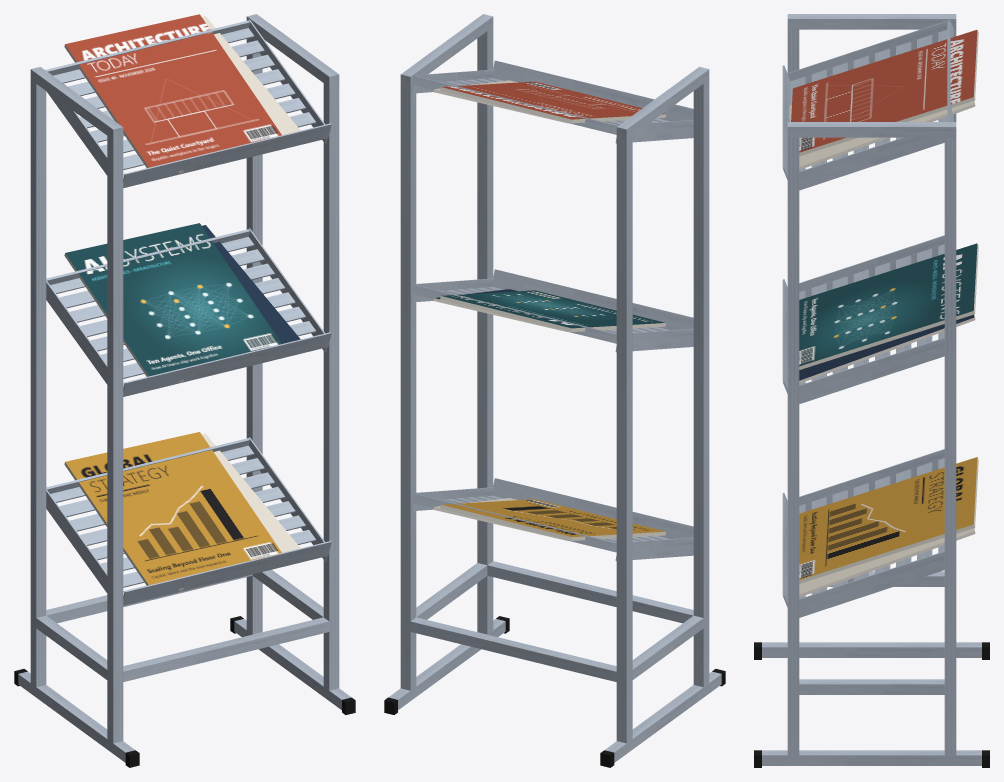
Rendered from Office_Lounge_Magazine_Rack.glb.
The picture shows the model from 3 angles, left to right: view 1: azimuth 30°, elevation 25°; view 2: azimuth 150°, elevation 25°; view 3: azimuth 270°, elevation 25°; orthographic projection. The views are drawn at different scales.
Parts seen in each view (by area): view 1: Magazine_ARCHITECTURE_TODAY, Magazine_GLOBAL_STRATEGY, Magazine_AI_SYSTEMS, Upright_L_F, Upright_L_B, Upright_R_F, Tray_1, Tray_2, Upright_R_B, Tray_3, Stretcher_Front_Low, Tray_1_Lip (+21 smaller); view 2: Upright_L_B, Upright_L_F, Upright_R_B, Upright_R_F, Magazine_ARCHITECTURE_TODAY, Magazine_GLOBAL_STRATEGY, Magazine_AI_SYSTEMS, Stretcher_Back_Low, Stretcher_Front_Low, Tray_1_Lip, Tray_2_Lip, Tray_3_Lip (+17 smaller); view 3: Magazine_GLOBAL_STRATEGY, Magazine_AI_SYSTEMS, Magazine_ARCHITECTURE_TODAY, Upright_R_F, Upright_R_B, Runner_R, Runner_L, Tray_2_Flange_R, Tray_1_Flange_R, Top_Rail_R, Tray_3_Flange_R, Top_Rail_L (+16 smaller).
Part boxes in pixels (box(x1,y1,x2,y2)): Magazine_ARCHITECTURE_TODAY: box(64, 14, 281, 167); Magazine_GLOBAL_STRATEGY: box(64, 432, 281, 585); Magazine_AI_SYSTEMS: box(64, 223, 281, 376); Upright_L_F: box(107, 136, 123, 743); Upright_L_B: box(30, 80, 46, 687); Upright_R_F: box(323, 83, 339, 690); Tray_1: box(50, 445, 315, 595); Tray_2: box(50, 237, 315, 386); Upright_R_B: box(246, 38, 262, 634); Tray_3: box(53, 28, 316, 178); Stretcher_Front_Low: box(123, 617, 329, 681); Tray_1_Lip: box(123, 541, 331, 605); Upright_L_B: box(616, 136, 632, 743); Upright_L_F: box(693, 80, 709, 687); Upright_R_B: box(400, 85, 416, 690); Upright_R_F: box(477, 27, 493, 634); Magazine_ARCHITECTURE_TODAY: box(440, 81, 665, 123); Magazine_GLOBAL_STRATEGY: box(440, 499, 665, 540); Magazine_AI_SYSTEMS: box(440, 290, 665, 331); Stretcher_Back_Low: box(410, 617, 616, 681); Stretcher_Front_Low: box(487, 561, 693, 623); Tray_1_Lip: box(493, 478, 693, 538); Tray_2_Lip: box(493, 269, 693, 330); Tray_3_Lip: box(493, 60, 693, 121); Magazine_GLOBAL_STRATEGY: box(799, 457, 978, 583); Magazine_AI_SYSTEMS: box(799, 243, 978, 369); Magazine_ARCHITECTURE_TODAY: box(791, 29, 978, 156); Upright_R_F: box(787, 137, 799, 755); Upright_R_B: box(944, 137, 956, 755); Runner_R: box(762, 750, 981, 765); Runner_L: box(762, 642, 981, 657); Tray_2_Flange_R: box(799, 337, 944, 403); Tray_1_Flange_R: box(799, 551, 944, 617); Top_Rail_R: box(787, 122, 956, 137); Tray_3_Flange_R: box(799, 137, 944, 190); Top_Rail_L: box(787, 14, 956, 29).
Bounding box in the file's own units: 0.34 × 0.9095 × 0.3.
11 materials, 4 textured.
